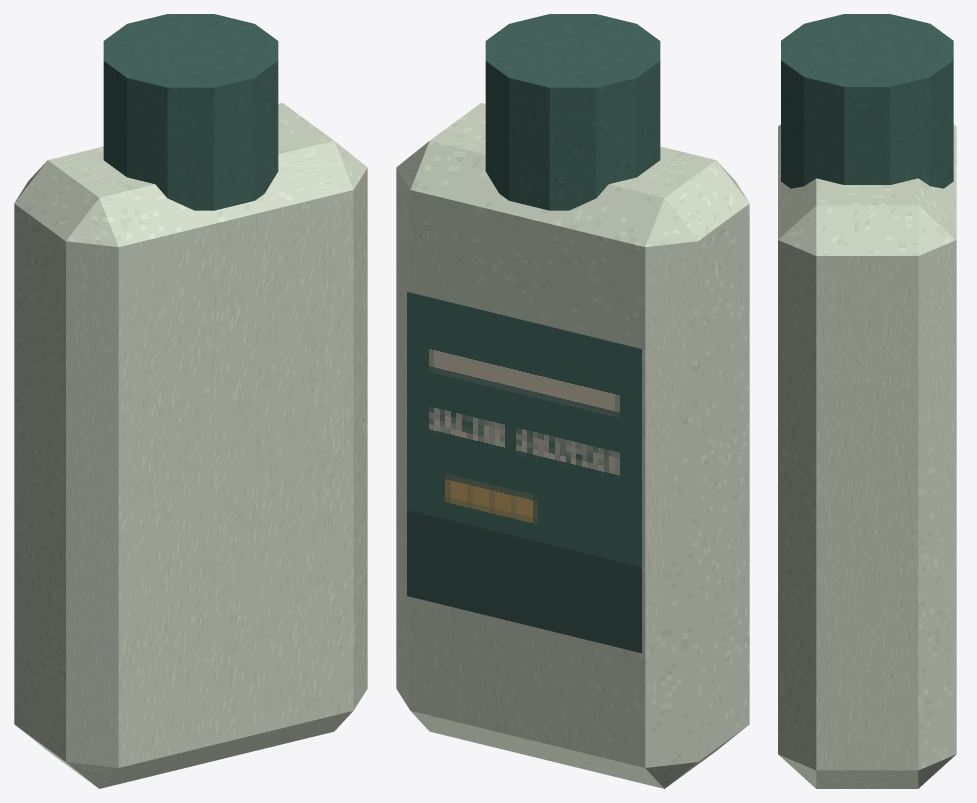
Rendered from saline.glb.
3 views of the same model, side by side, from view 1: azimuth 30°, elevation 25°; view 2: azimuth 150°, elevation 25°; view 3: azimuth 270°, elevation 25° (orthographic).
Visible parts, largest first — view 1: block_squeeze bottle, block_cap; view 2: block_squeeze bottle, block_medical label, block_cap; view 3: block_squeeze bottle, block_cap.
Boxes of the visible parts, left/top/right/bottom form: block_squeeze bottle: left=14, top=103, right=367, bottom=788; block_cap: left=103, top=14, right=278, bottom=210; block_squeeze bottle: left=396, top=103, right=749, bottom=788; block_medical label: left=407, top=292, right=641, bottom=653; block_cap: left=485, top=14, right=660, bottom=210; block_squeeze bottle: left=778, top=124, right=956, bottom=788; block_cap: left=781, top=14, right=953, bottom=188.
Bounding box in the file's own units: 0.054 × 0.118 × 0.029.
1 material, 1 textured.
